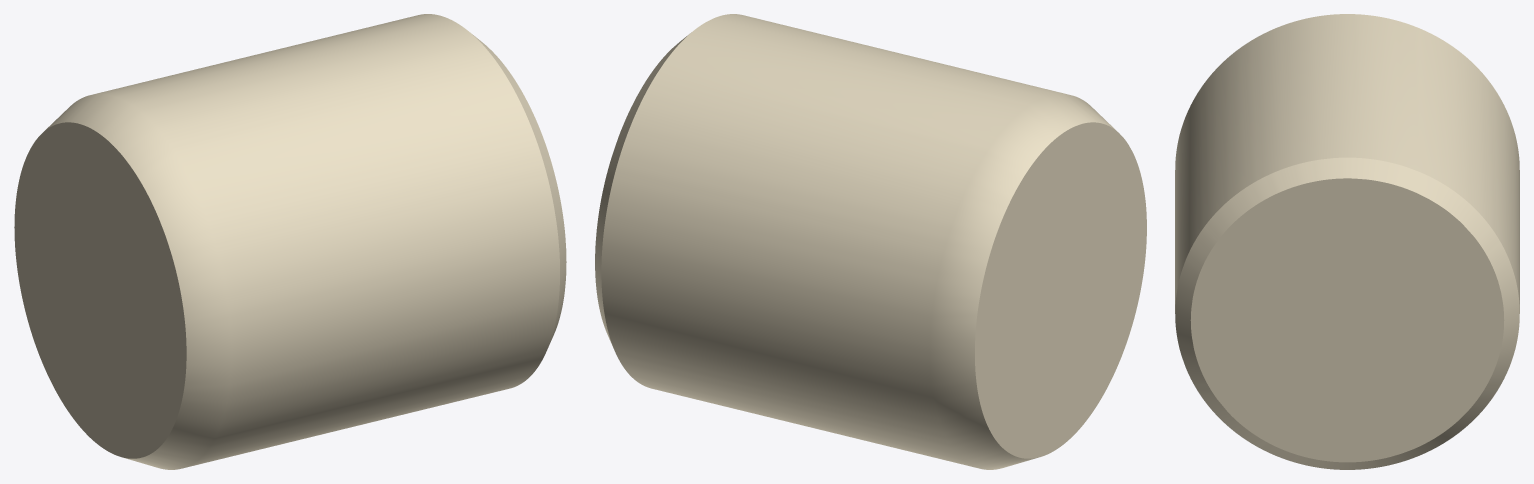
Rendered from tapa-montabert-brh-501-tool-bushing-pin-plug-02.glb.
3 renders of one model, left to right at view 1: azimuth 30°, elevation 25°; view 2: azimuth 150°, elevation 25°; view 3: azimuth 270°, elevation 25°, orthographic. The views are drawn at different scales.
Visible parts, largest first — view 1: body; view 2: body; view 3: body.
Part boxes in pixels (x1,y1,x2,y2): body: [14, 14, 566, 469]; body: [595, 14, 1146, 469]; body: [1175, 14, 1519, 469].
Size of the model in its own units: 0.025 by 0.022 by 0.022.
